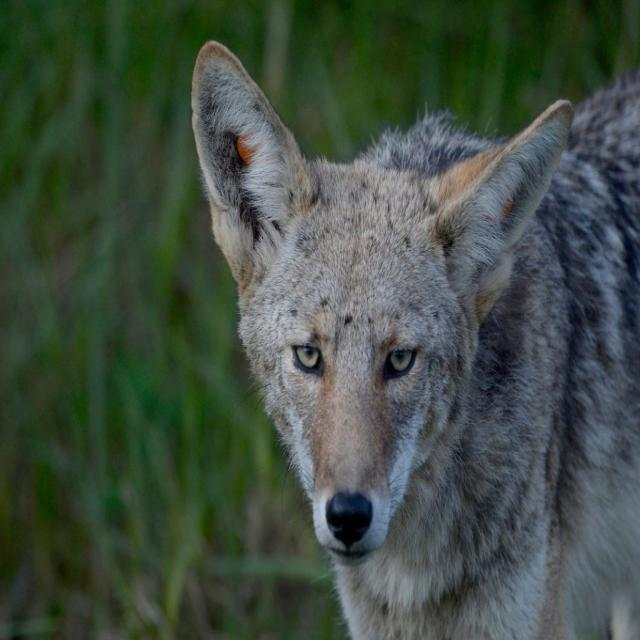coyote: (189, 40, 640, 639)
